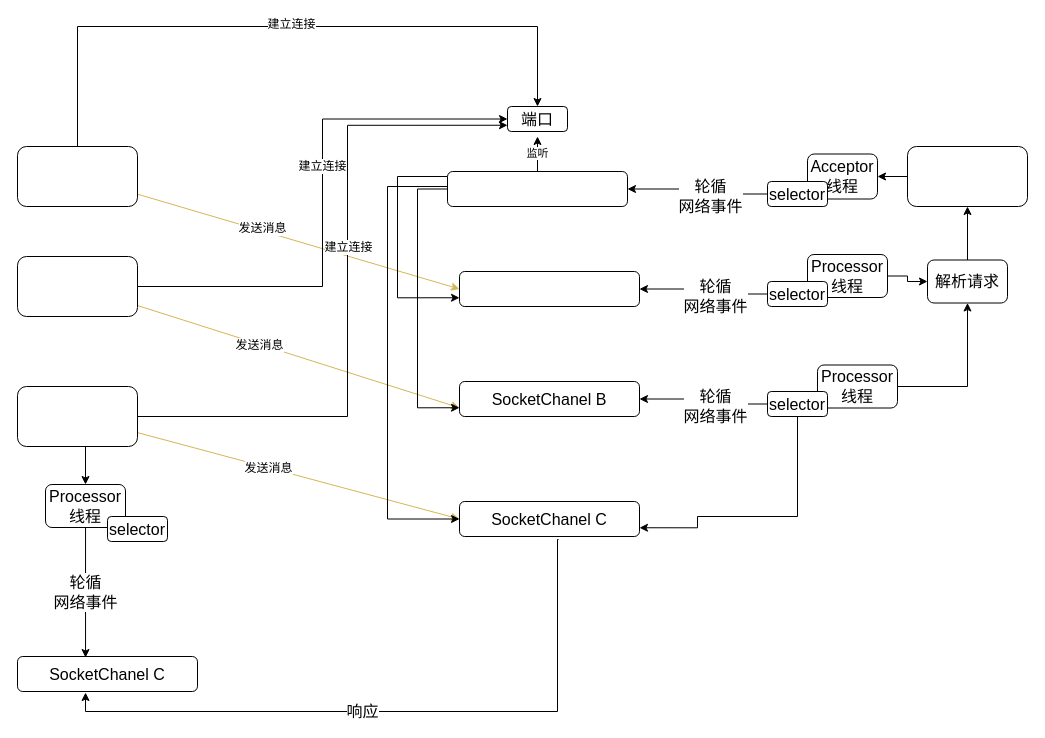
The diagram is 1045 pixels wide and 738 high, and some of its shapes have lost their labels. Each missing label, with the box of its shape:
ServerSocketChanel: (446, 170, 628, 206)
SocketChanel A: (458, 270, 640, 306)
服务提供者: (906, 146, 1028, 206)
服务消费者A: (16, 146, 138, 206)
服务消费者B: (16, 256, 138, 316)
服务消费者C: (16, 386, 138, 446)
